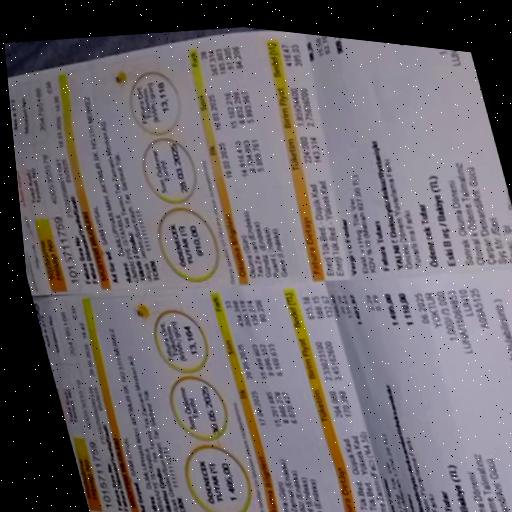electricity-bill: (8, 30, 512, 512), (7, 31, 512, 512)
